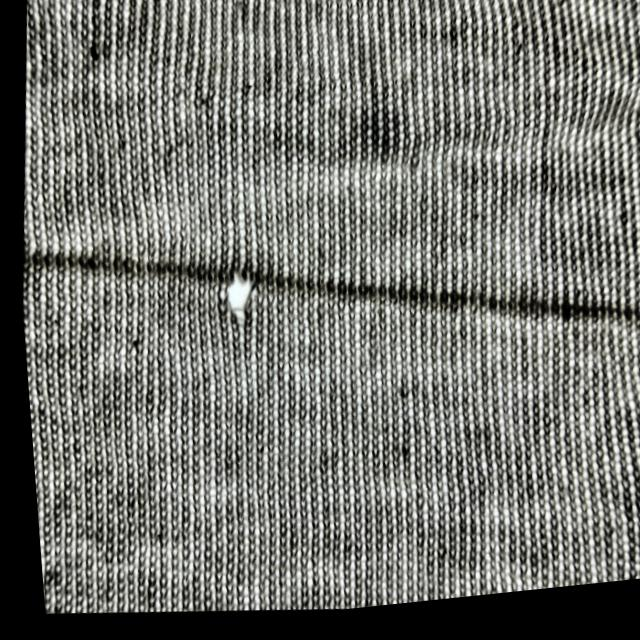Hole: (341, 105, 421, 185), (213, 264, 262, 331)
